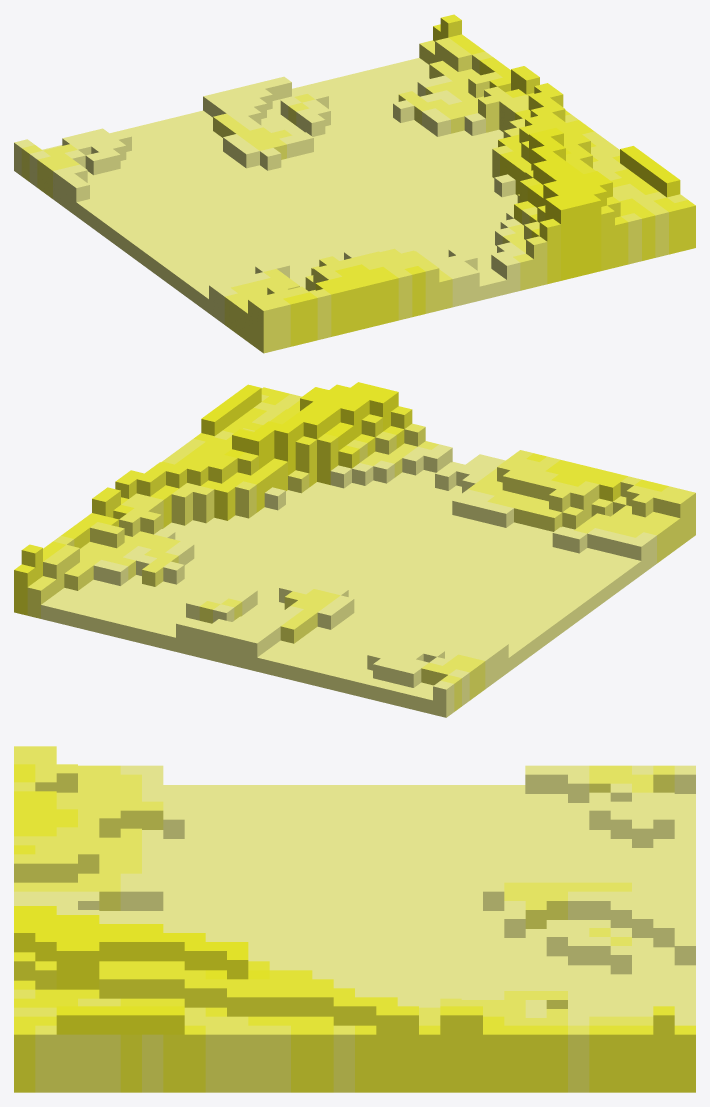
Rendered from Destert Map-21.obj.
3 renders of one model, top to bottom at view 1: azimuth 30°, elevation 25°; view 2: azimuth 150°, elevation 25°; view 3: azimuth 270°, elevation 25°, orthographic. The views are drawn at different scales.
Bounding box in the file's own units: 3.2 × 0.5 × 3.2.
1 material, 1 textured.
